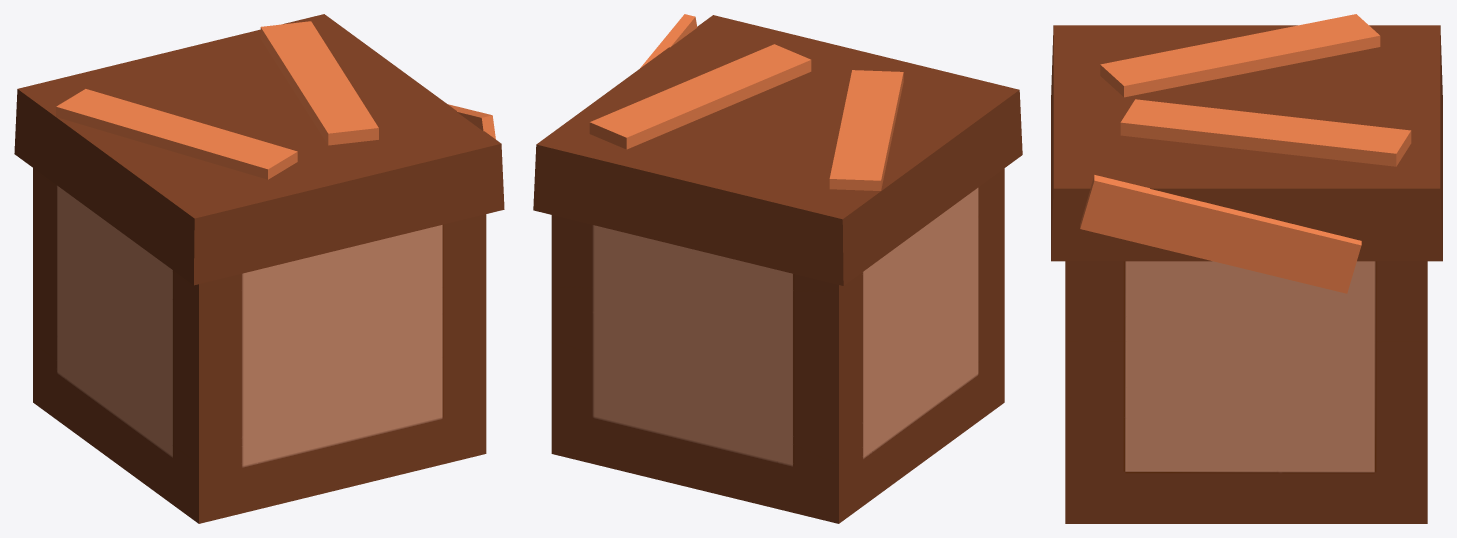
Rendered from Broken Crate 1.fbx.
3 views of the same model, side by side, from view 1: azimuth 30°, elevation 25°; view 2: azimuth 150°, elevation 25°; view 3: azimuth 270°, elevation 25° (orthographic). The views are drawn at different scales.
Parts seen in each view (by area): view 1: Object001, Box001, Object002; view 2: Object001, Box001, Object002; view 3: Object001, Object002, Box001.
Boxes of the visible parts, left/top/right/bottom form: Object001: left=14, top=14, right=504, bottom=291; Box001: left=33, top=170, right=486, bottom=464; Object002: left=33, top=338, right=486, bottom=523; Object001: left=533, top=14, right=1022, bottom=291; Box001: left=551, top=170, right=1004, bottom=464; Object002: left=551, top=338, right=1004, bottom=523; Object001: left=1051, top=14, right=1442, bottom=341; Object002: left=1065, top=397, right=1427, bottom=523; Box001: left=1065, top=341, right=1427, bottom=396.
Size of the model in its own units: 14.45 by 14.19 by 14.09.
3 materials, 3 textured.
